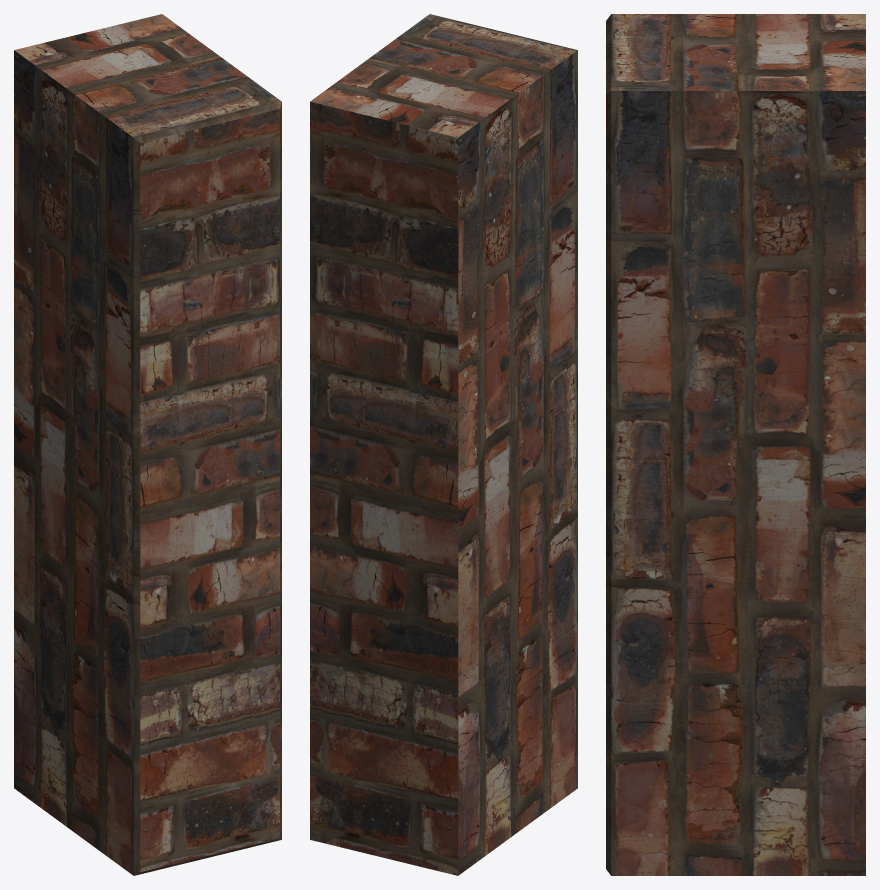
Rendered from wall_vis.obj.
3 renders of one model, left to right at view 1: azimuth 30°, elevation 25°; view 2: azimuth 150°, elevation 25°; view 3: azimuth 270°, elevation 25°, orthographic. The views are drawn at different scales.
Size of the model in its own units: 0.105 by 0.5 by 0.15.
1 material, 1 textured.
